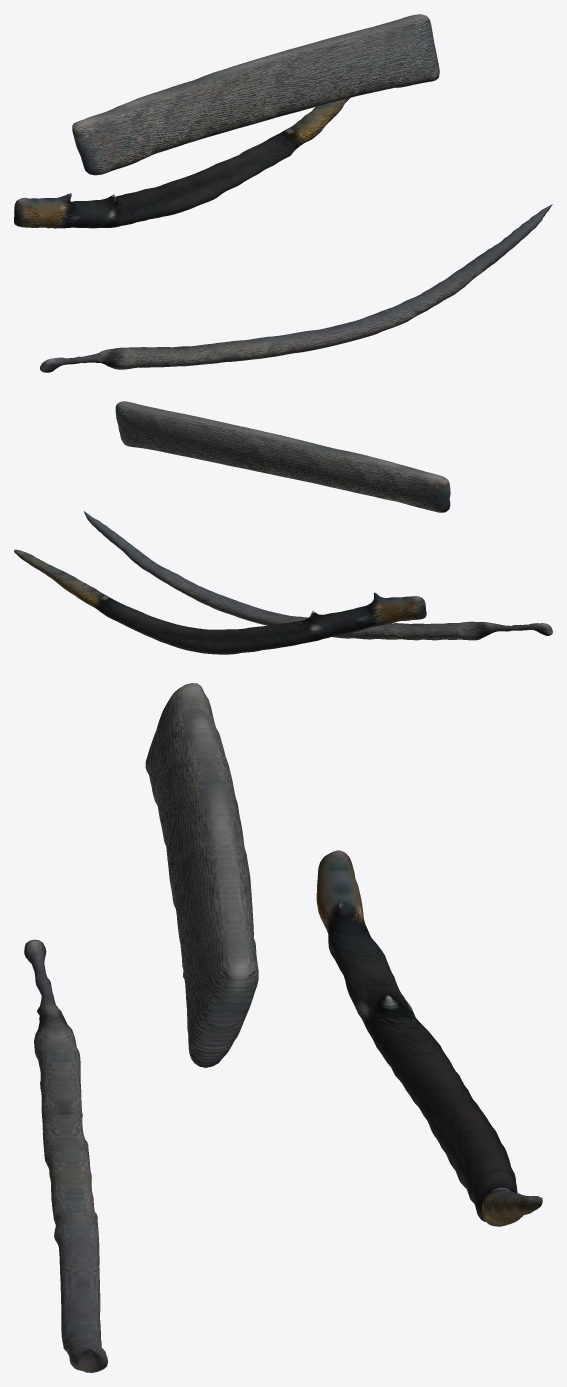
The model's file is kfl-2126.glb.
3 renders of one model, top to bottom at view 1: azimuth 30°, elevation 25°; view 2: azimuth 150°, elevation 25°; view 3: azimuth 270°, elevation 25°, orthographic. The views are drawn at different scales.
Visible parts, largest first — view 1: geometry_0; view 2: geometry_0; view 3: geometry_0.
Boxes of the visible parts, box(x1,y1,x2,y2) form: geometry_0: box(14, 14, 552, 372); geometry_0: box(14, 401, 552, 654); geometry_0: box(24, 683, 542, 1372).
Size of the model in its own units: 0.9874 by 0.4694 by 0.4873.
1 material, 1 textured.
